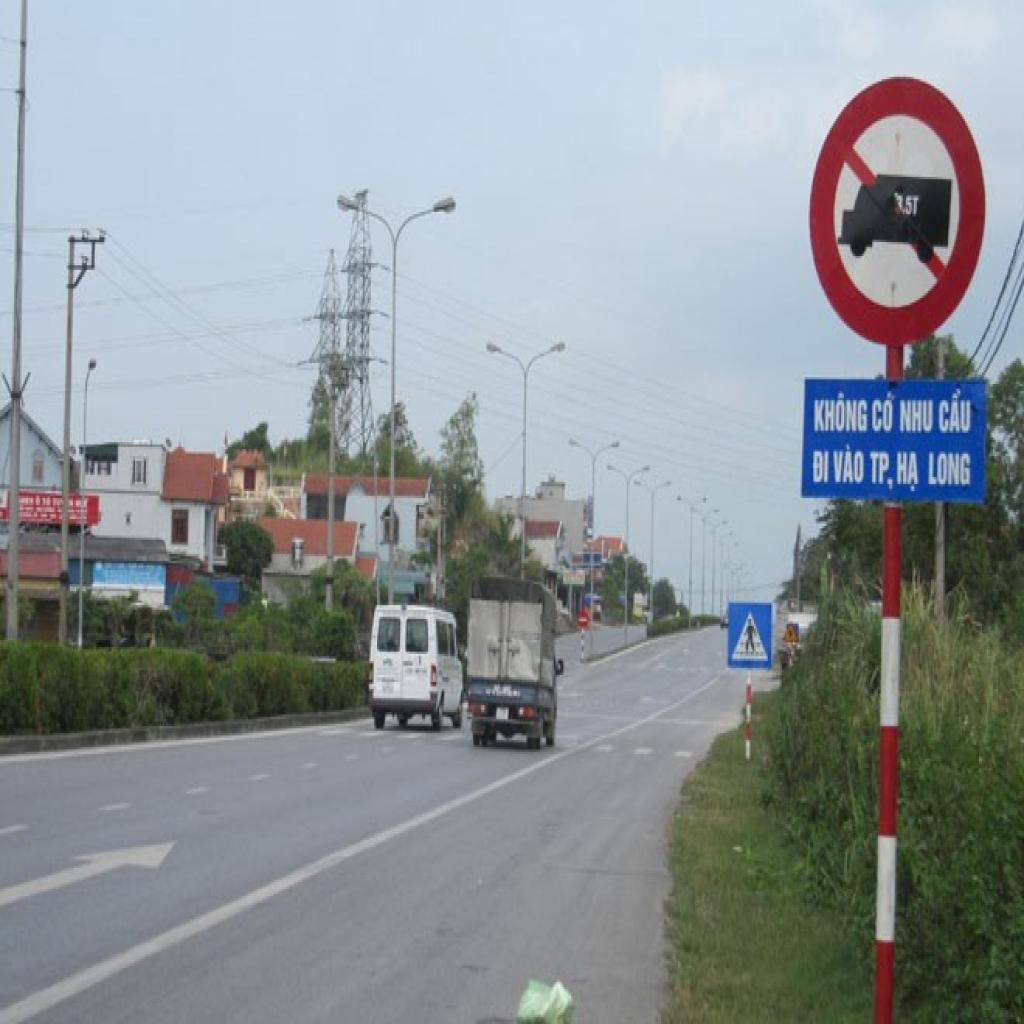text: (811, 389, 869, 435), (939, 386, 974, 438), (833, 440, 867, 486), (895, 442, 923, 496), (898, 398, 936, 437), (868, 445, 896, 491), (872, 391, 897, 438), (892, 189, 922, 221), (810, 444, 832, 486)
